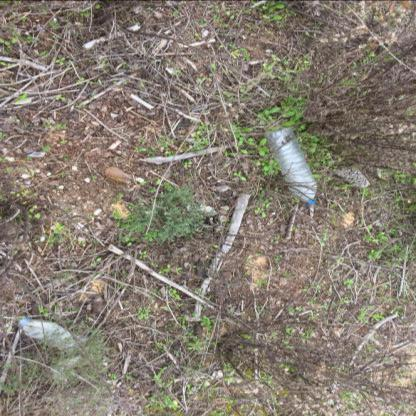Bottle cap: (265, 127, 318, 205), (19, 316, 77, 350)
